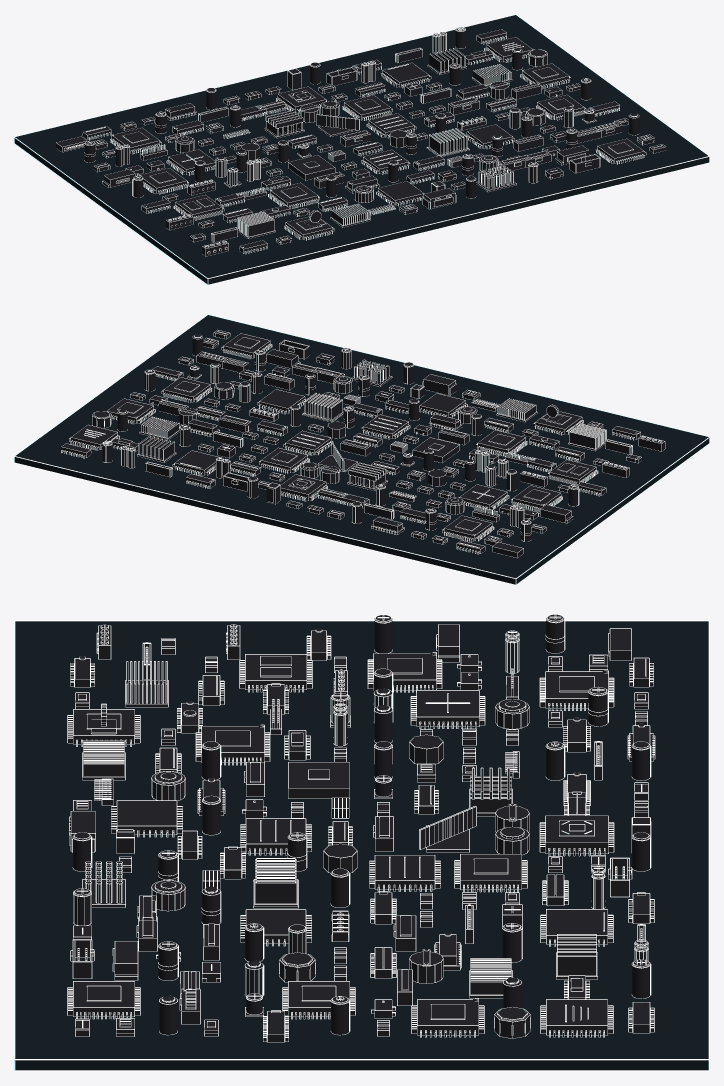
The model's file is random_pcb.glb.
3 renders of one model, top to bottom at view 1: azimuth 30°, elevation 25°; view 2: azimuth 150°, elevation 25°; view 3: azimuth 270°, elevation 25°, orthographic. The views are drawn at different scales.
Visible parts, largest first — view 1: board_face, world, c2_p0_face, c11_p0_face, c1_p0_face, c5_p0_face, c23_edges, c22_edges, c6_p0_face, c9_p0_face, c12_p0_face, c0_p0_face (+13 smaller); view 2: board_face, world, c5_p0_face, c1_p0_face, c2_p0_face, c12_p0_face, c9_p0_face, c11_p0_face, c6_p0_face, c0_p0_face, c23_edges, c7_p0_face (+14 smaller); view 3: board_face, world, c5_p0_face, c2_p0_face, c9_p0_face, c1_p0_face, c6_p0_face, c7_p0_face, c11_p0_face, c13_p0_face, c8_p0_face, c10_p0_face (+36 smaller).
Boxes of the visible parts, x1,y1,x2,y2 form: board_face: (14,15,709,284); world: (14,14,709,285); c2_p0_face: (288,155,334,180); c11_p0_face: (382,63,429,87); c1_p0_face: (378,181,423,204); c5_p0_face: (168,149,215,174); c23_edges: (426,128,469,156); c22_edges: (476,165,516,191); c6_p0_face: (368,113,414,137); c9_p0_face: (486,37,532,61); c12_p0_face: (467,124,512,148); c0_p0_face: (363,150,408,173); board_face: (14,315,709,584); world: (14,314,709,585); c5_p0_face: (459,484,507,509); c1_p0_face: (420,393,465,416); c2_p0_face: (413,437,459,462); c12_p0_face: (259,389,304,413); c9_p0_face: (71,425,117,449); c11_p0_face: (175,450,218,474); c6_p0_face: (285,431,331,454); c0_p0_face: (363,415,408,438); c23_edges: (302,393,343,422); c7_p0_face: (281,474,325,500); board_face: (15,621,708,1070); world: (14,620,709,1071); c5_p0_face: (416,690,479,726); c2_p0_face: (288,762,349,798); c9_p0_face: (546,1000,607,1034); c1_p0_face: (117,801,176,834); c6_p0_face: (375,855,434,889); c7_p0_face: (545,816,608,853); c11_p0_face: (546,909,607,943); c13_p0_face: (73,981,134,1016); c8_p0_face: (460,854,521,889); c10_p0_face: (417,1000,478,1034).
Bounding box in the file's own units: 33.85 × 1.66 × 22.66.
